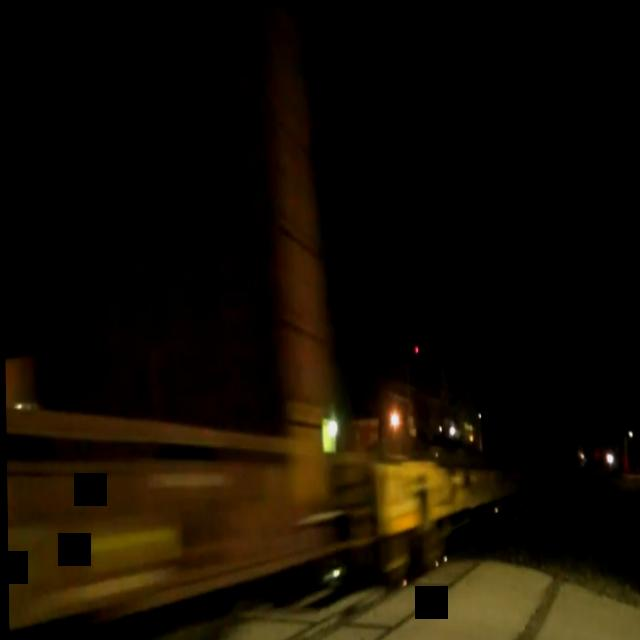flatcar: (330, 413, 575, 640)
flatcar_bulkhead: (0, 0, 363, 640)
